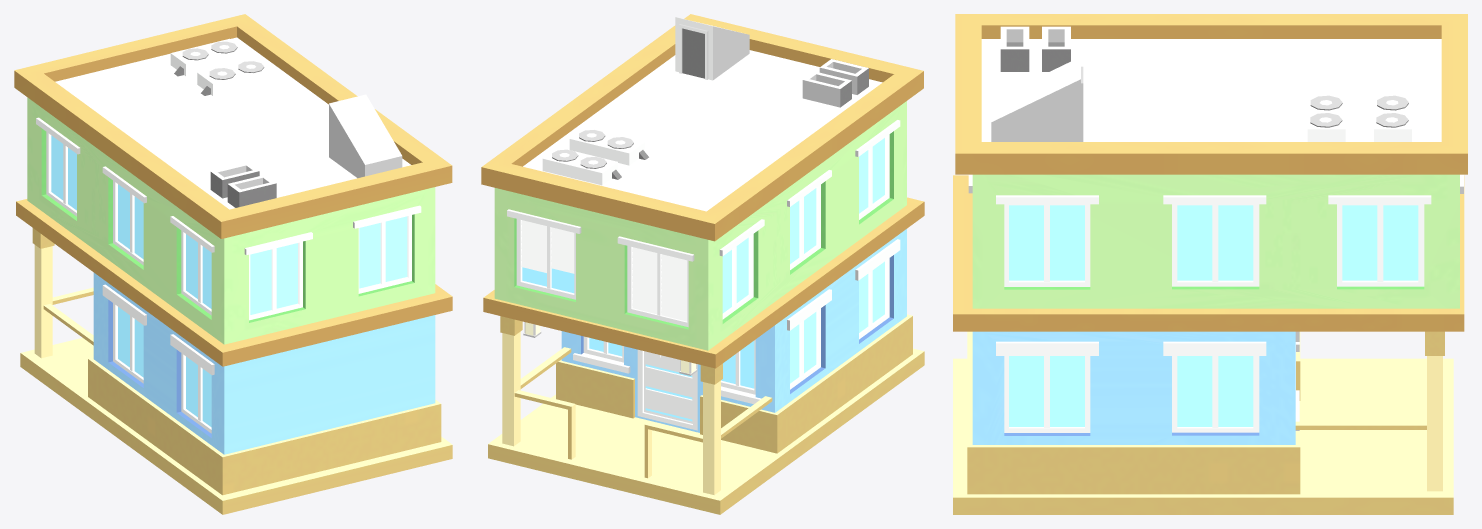
File: dwelling.007.glb
The picture shows the model from 3 angles, left to right: view 1: azimuth 30°, elevation 25°; view 2: azimuth 150°, elevation 25°; view 3: azimuth 270°, elevation 25°; orthographic projection. The views are drawn at different scales.
Parts seen in each view (by area): view 1: dwelling.007(Clone); view 2: dwelling.007(Clone); view 3: dwelling.007(Clone).
Part boxes in pixels (<box>): dwelling.007(Clone): <box>14,14,452,514</box>; dwelling.007(Clone): <box>481,14,924,514</box>; dwelling.007(Clone): <box>953,14,1467,514</box>.
Size of the model in its own units: 4.92 by 6.82 by 7.67.
1 material, 1 textured.
